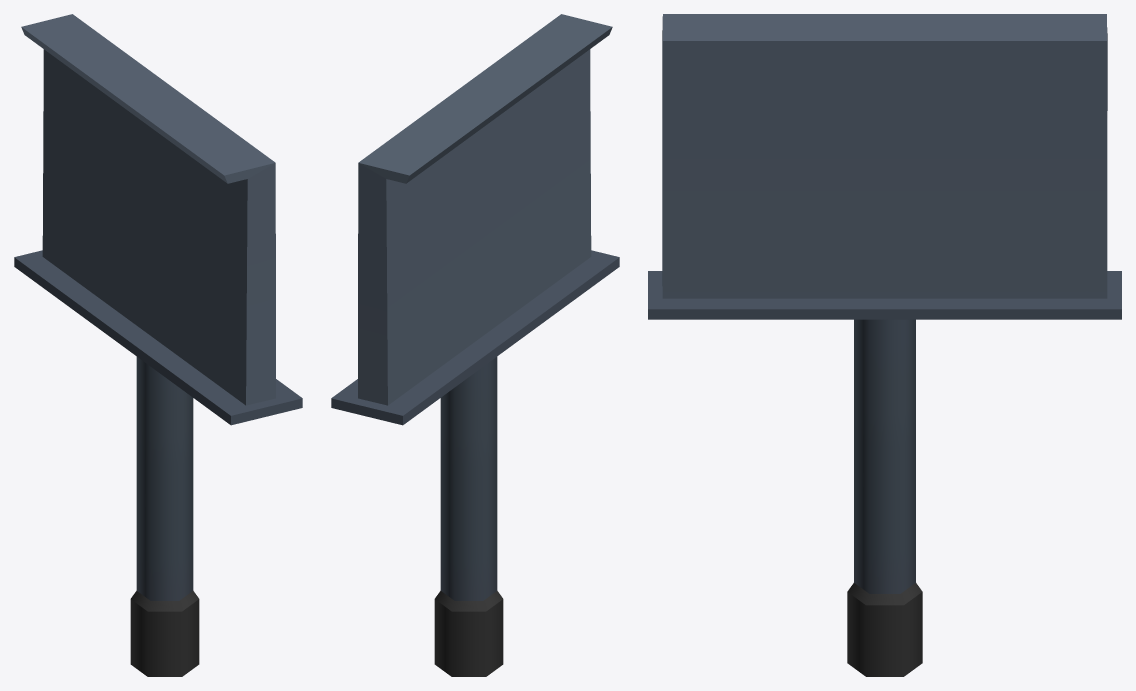
Rendered from Bilboard_2_C.fbx.
The picture shows the model from 3 angles, left to right: view 1: azimuth 30°, elevation 25°; view 2: azimuth 150°, elevation 25°; view 3: azimuth 270°, elevation 25°; orthographic projection. The views are drawn at different scales.
Parts seen in each view (by area): view 1: Bilboard_2_C; view 2: Bilboard_2_C; view 3: Bilboard_2_C.
Boxes of the visible parts, x1=… form: Bilboard_2_C: x1=14, y1=14, x2=302, y2=676; Bilboard_2_C: x1=331, y1=14, x2=619, y2=676; Bilboard_2_C: x1=648, y1=14, x2=1121, y2=676.
Size of the model in its own units: 80.53 by 615 by 421.
